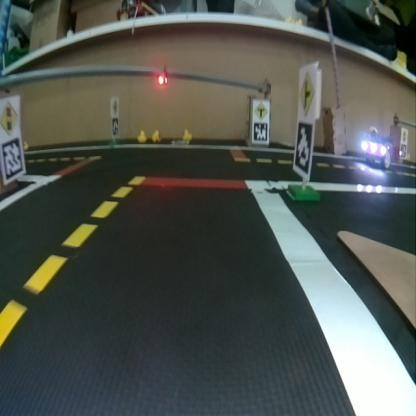Duckie: (137, 130, 146, 142), (152, 131, 162, 141), (182, 129, 191, 138)
Duckiebot: (361, 133, 392, 167)
Intersection sign: (298, 70, 316, 114), (254, 100, 266, 119), (112, 98, 117, 115)
QR code: (292, 121, 314, 172), (2, 138, 22, 179), (252, 121, 267, 143), (111, 118, 118, 134)
Signal sign: (0, 100, 20, 132)
Traffic light: (157, 68, 167, 86)
